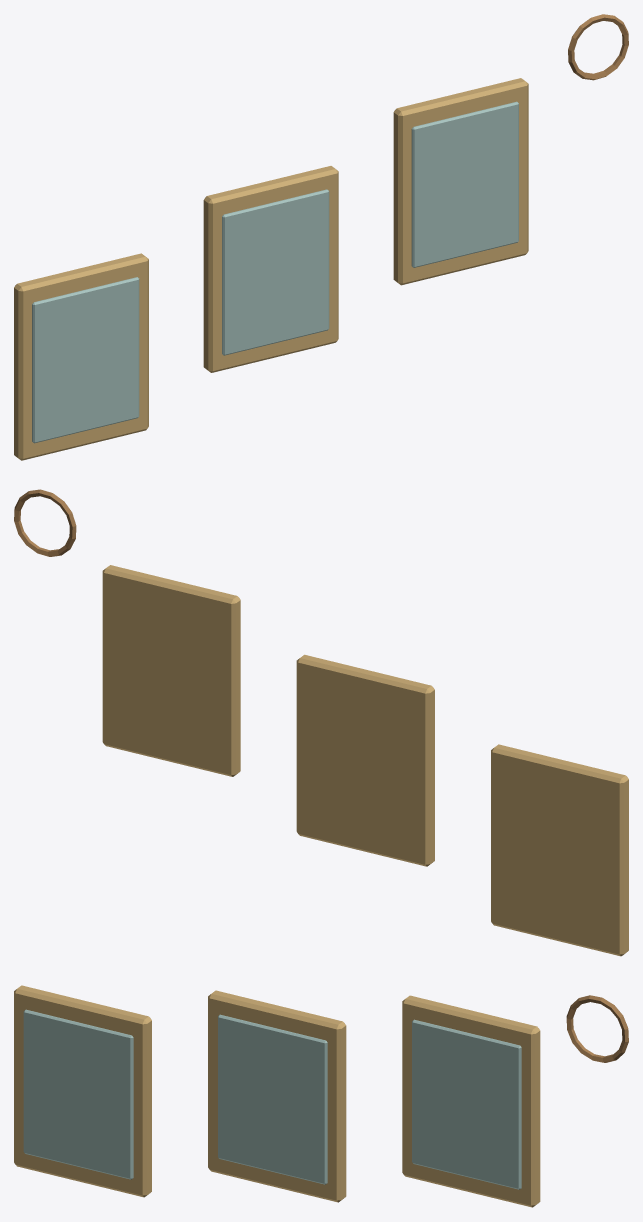
File: fur02_level_2.glb
The picture shows the model from 3 angles, top to bottom: view 1: azimuth 30°, elevation 25°; view 2: azimuth 150°, elevation 25°; view 3: azimuth 330°, elevation 25°; orthographic projection. The views are drawn at different scales.
Visible parts, largest first — view 1: fur02_level_2; view 2: fur02_level_2; view 3: fur02_level_2.
Part boxes in pixels (x1=…): fur02_level_2: x1=14, y1=14, x2=628, y2=460; fur02_level_2: x1=14, y1=489, x2=628, y2=956; fur02_level_2: x1=14, y1=985, x2=628, y2=1207.
Size of the model in its own units: 1.53 by 0.7472 by 0.0548.
